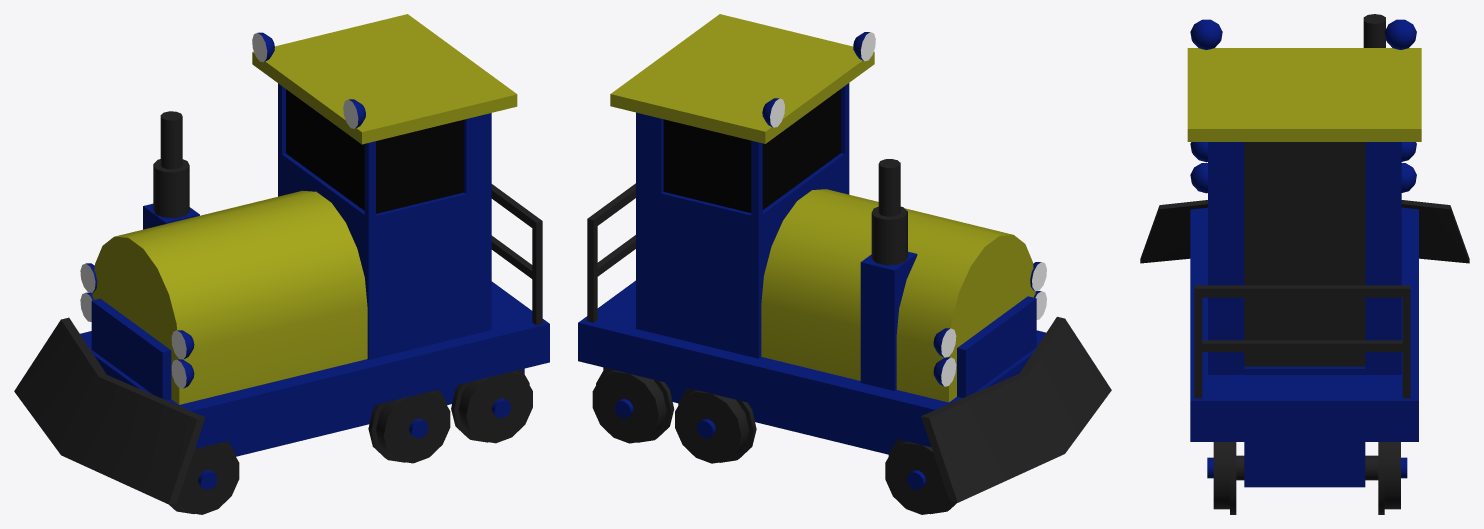
The model's file is train1.FBX.
3 renders of one model, left to right at view 1: azimuth 30°, elevation 25°; view 2: azimuth 150°, elevation 25°; view 3: azimuth 270°, elevation 25°, orthographic. The views are drawn at different scales.
Visible parts, largest first — view 1: Box001; view 2: Box001; view 3: Box001.
Part boxes in pixels (box(x1,y1,x2,y2)): Box001: box(14, 14, 549, 514); Box001: box(578, 14, 1111, 514); Box001: box(1140, 14, 1469, 514).
Size of the model in its own units: 73.36 by 45.14 by 62.15.
